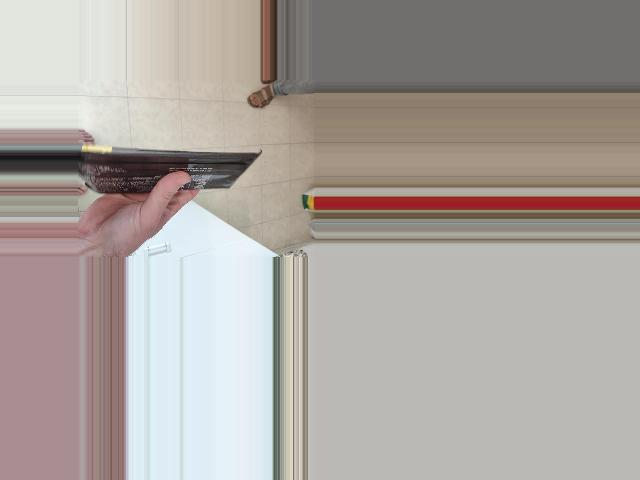chocolate: (76, 138, 245, 199)
